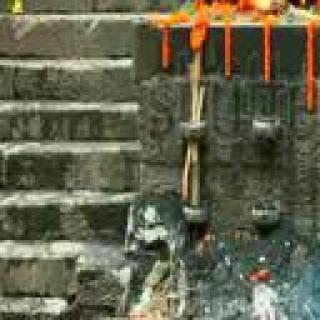fire: (245, 0, 320, 9)
